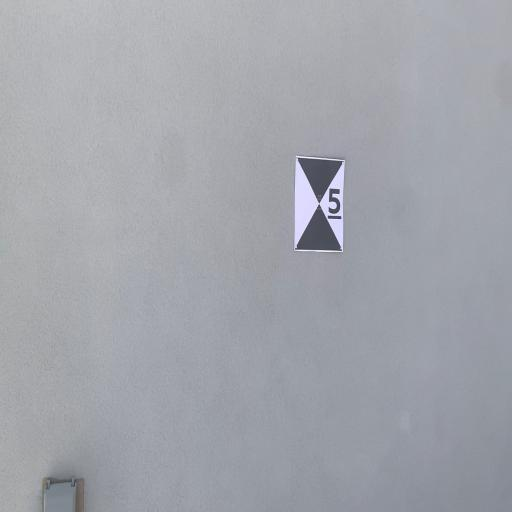target5: (295, 155, 345, 252)
